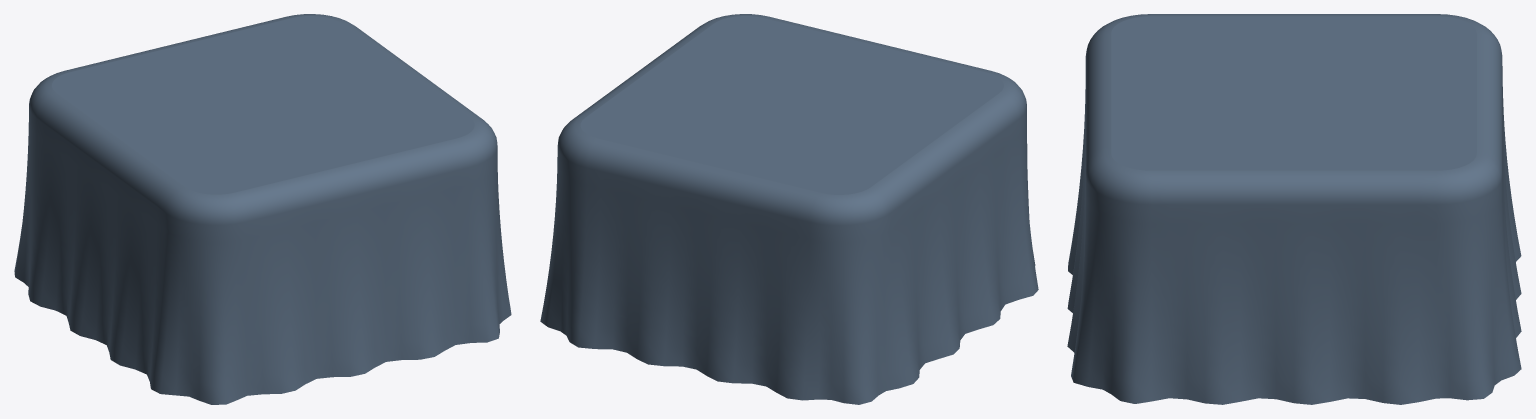
3 renders of one model, left to right at view 1: azimuth 30°, elevation 25°; view 2: azimuth 150°, elevation 25°; view 3: azimuth 270°, elevation 25°, orthographic. The views are drawn at different scales.
Visible parts, largest first — view 1: CLT_square_bluegrey; view 2: CLT_square_bluegrey; view 3: CLT_square_bluegrey.
Part boxes in pixels (x1,y1,x2,y2): CLT_square_bluegrey: (14,14,511,404); CLT_square_bluegrey: (540,14,1038,404); CLT_square_bluegrey: (1067,14,1521,404).
Bounding box in the file's own units: 2.49 × 1.3 × 2.49.
